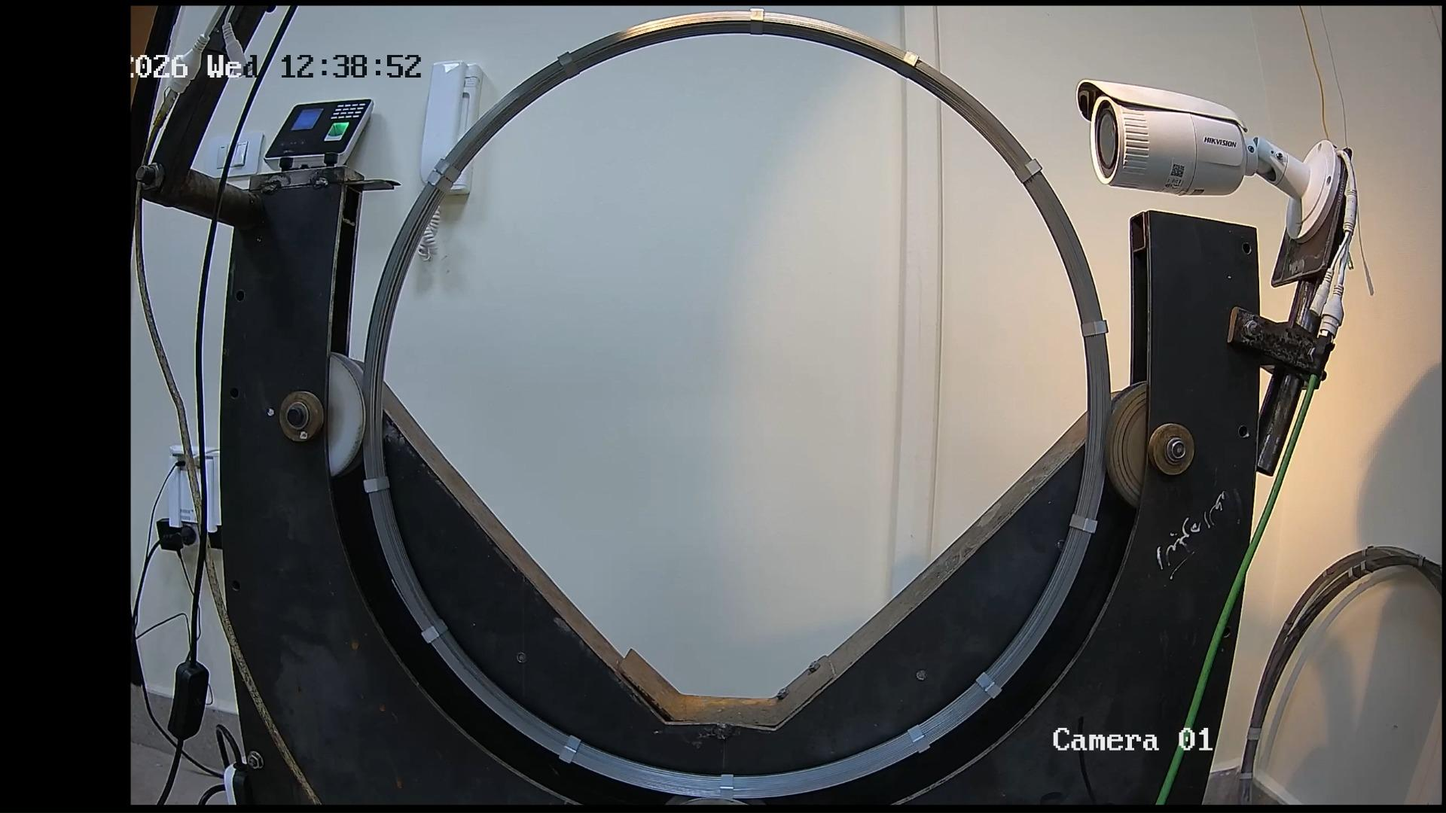Clamp: (893, 52, 918, 80), (1016, 159, 1042, 184), (425, 170, 452, 193), (557, 52, 581, 77), (975, 672, 999, 697), (560, 736, 581, 763), (423, 620, 447, 643), (437, 160, 461, 183), (1070, 514, 1097, 534), (908, 726, 926, 751), (1081, 321, 1107, 337), (363, 477, 389, 492), (750, 8, 764, 34), (719, 775, 734, 799)
